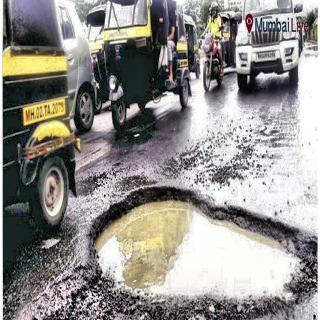pothole: (88, 181, 320, 320)
